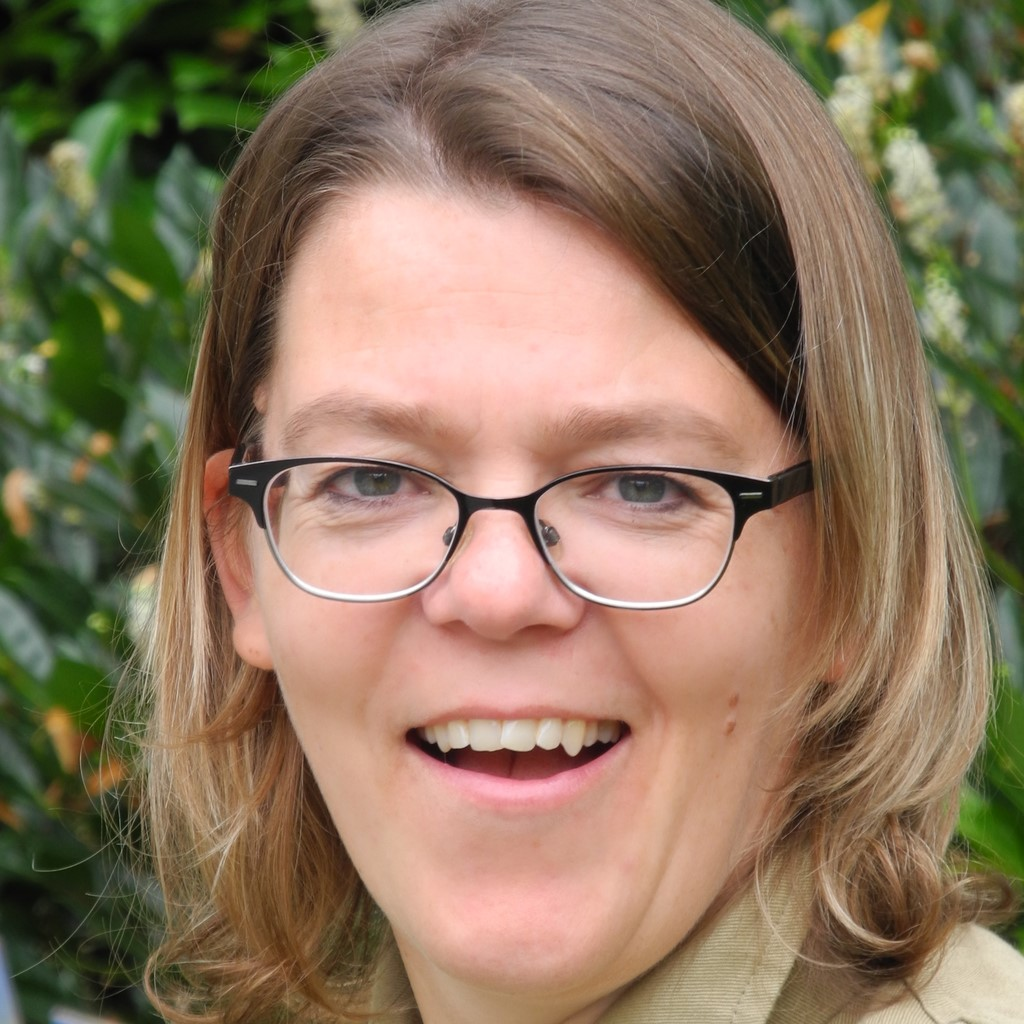sin_mascara: (238, 108, 862, 1008)
